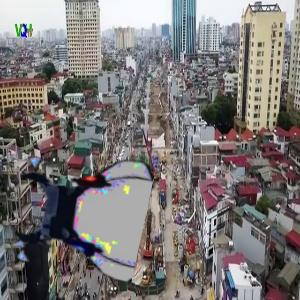drone: (10, 147, 146, 283)
